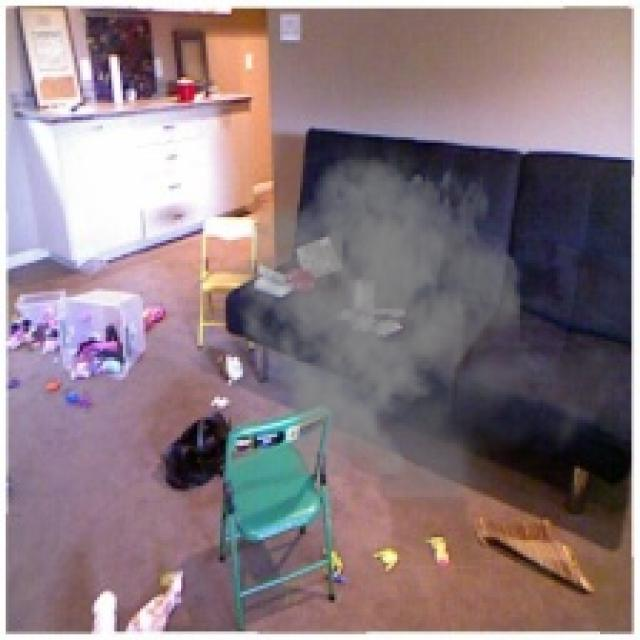smoke: (228, 128, 626, 523)
